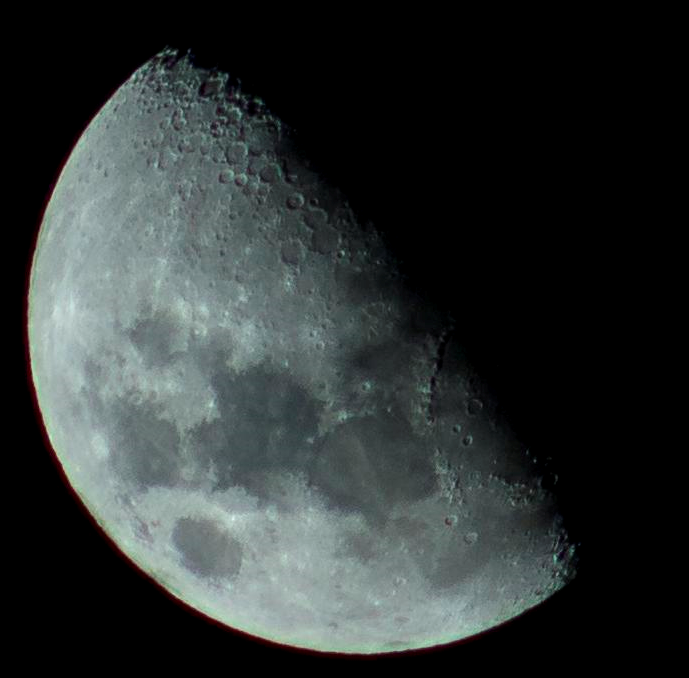crater: (165, 503, 265, 590), (77, 425, 130, 478), (266, 237, 309, 276), (181, 319, 212, 351), (358, 297, 395, 323), (218, 137, 249, 167), (254, 162, 284, 190), (390, 604, 420, 631), (191, 76, 227, 97), (436, 507, 463, 534), (121, 385, 148, 411), (460, 522, 484, 550), (460, 395, 486, 420), (388, 568, 414, 592), (136, 213, 157, 241), (213, 164, 235, 190), (358, 374, 381, 398), (282, 191, 307, 213), (197, 392, 218, 417), (309, 337, 332, 355), (447, 420, 465, 435)
